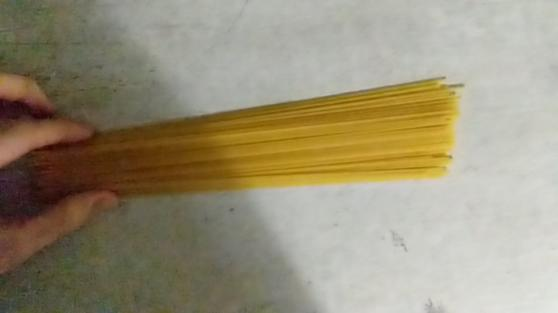spaghetti: (23, 68, 468, 227)
